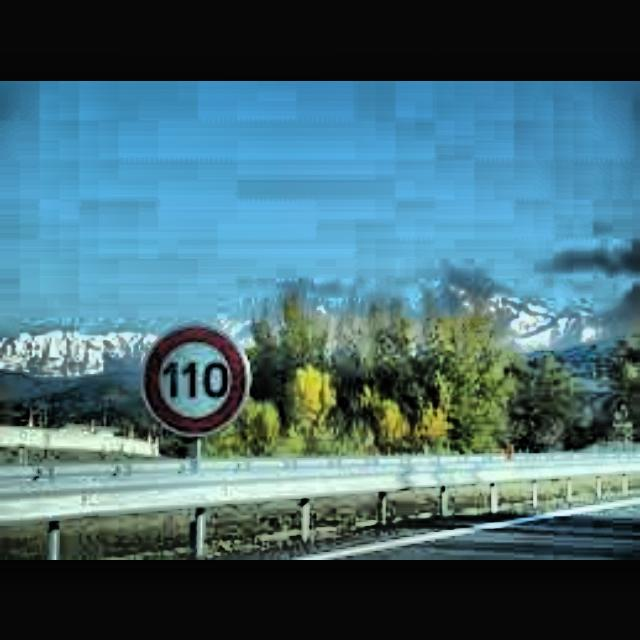speed_110: (142, 324, 250, 432)
